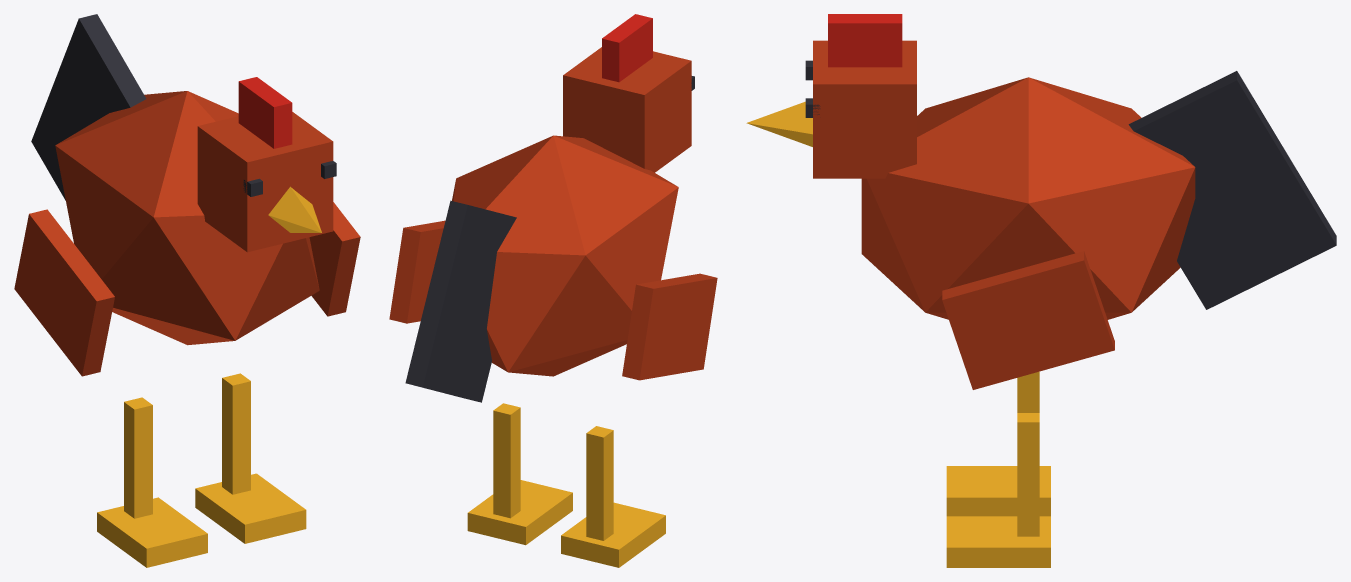
Rendered from rooster.glb.
3 renders of one model, left to right at view 1: azimuth 30°, elevation 25°; view 2: azimuth 150°, elevation 25°; view 3: azimuth 270°, elevation 25°, orthographic. The views are drawn at different scales.
Visible parts, largest first — view 1: rooster; view 2: rooster; view 3: rooster.
Boxes of the visible parts, x1,y1,x2,y2 form: rooster: (14,14,360,567); rooster: (389,14,717,567); rooster: (746,14,1336,567).
Size of the model in its own units: 0.516 by 0.906 by 0.9539.
